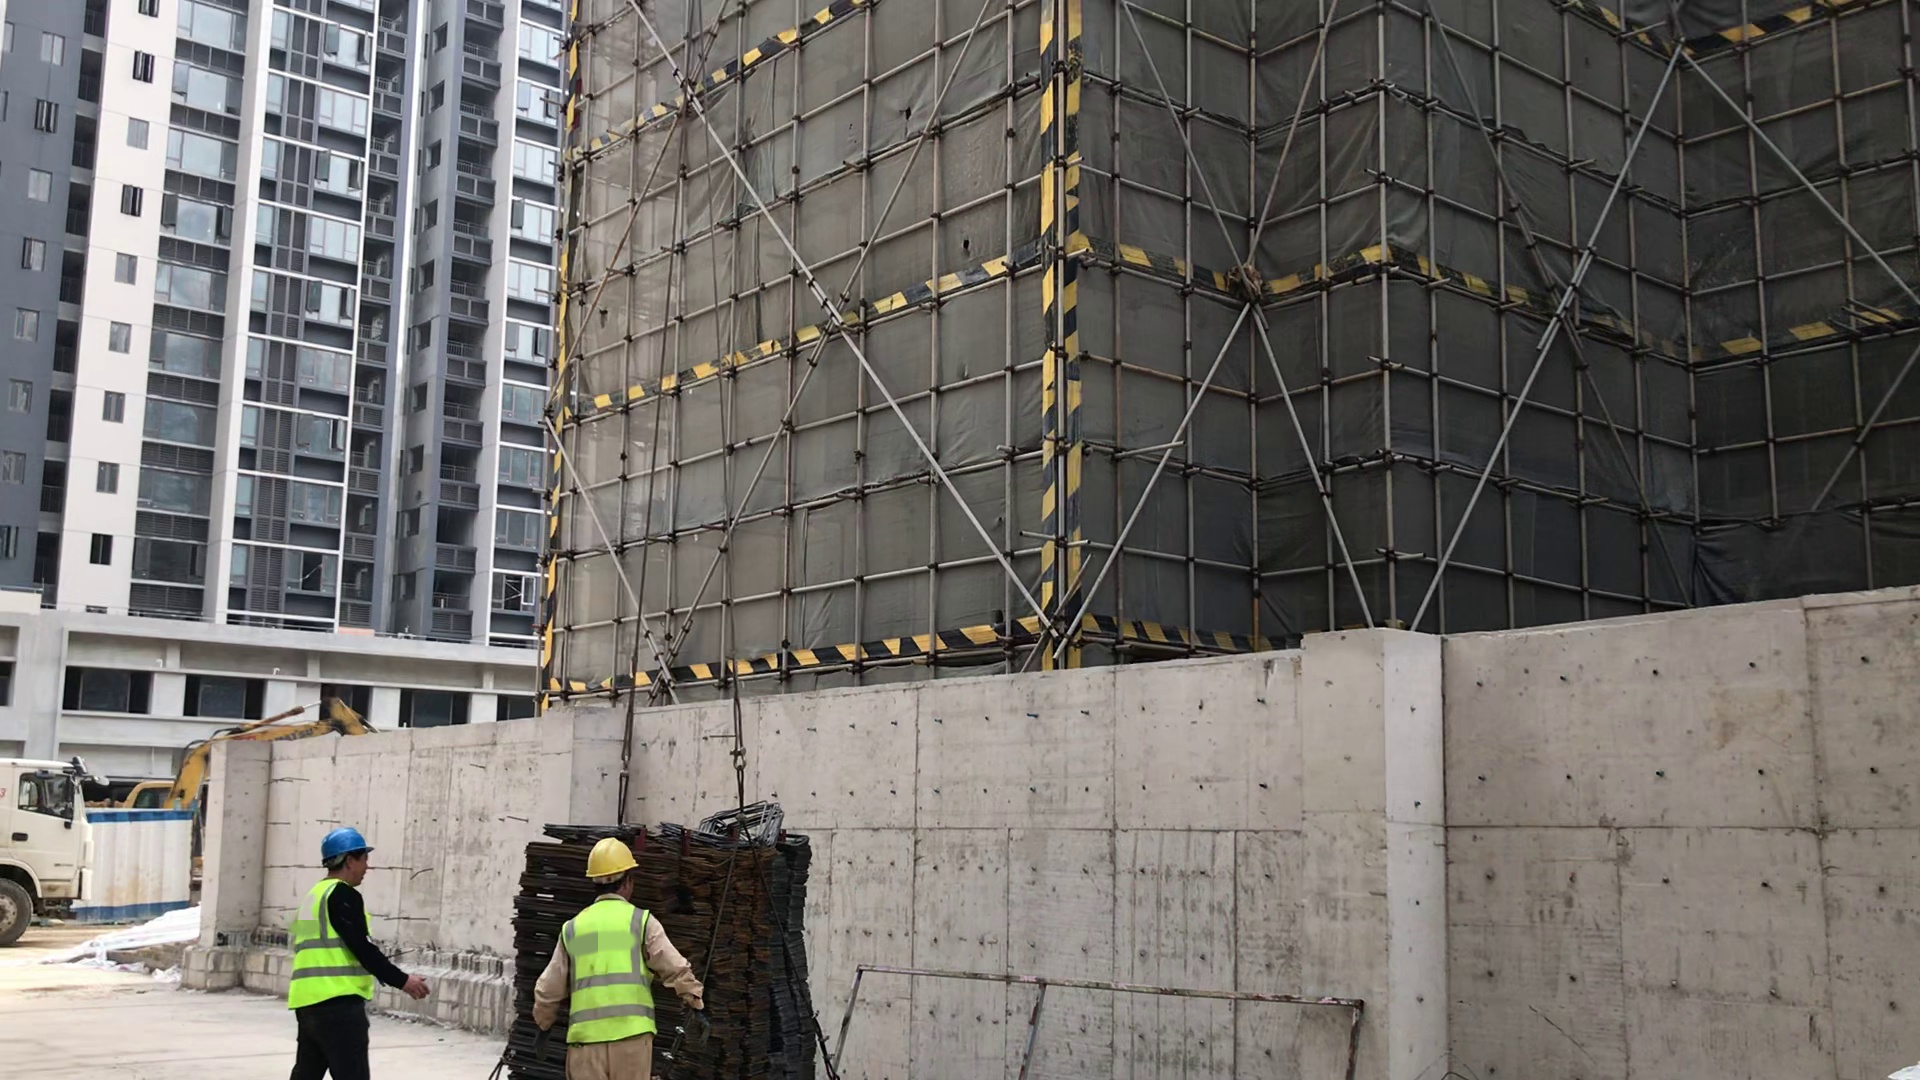helmet: (314, 821, 387, 884), (571, 827, 646, 884)
person: (535, 835, 698, 1080), (294, 823, 399, 1080)
vest: (552, 899, 652, 1037), (295, 885, 381, 1021)
